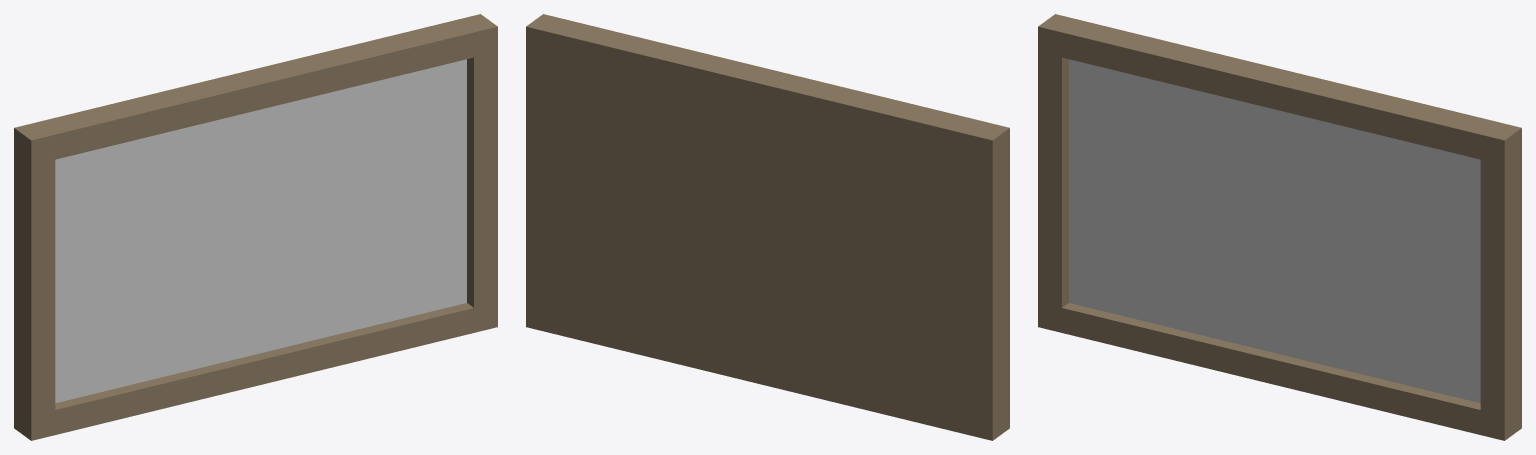
The model's file is frame3.fbx.
The picture shows the model from 3 angles, left to right: view 1: azimuth 30°, elevation 25°; view 2: azimuth 150°, elevation 25°; view 3: azimuth 330°, elevation 25°; orthographic projection.
Visible parts, largest first — view 1: frame3; view 2: frame3; view 3: frame3.
Boxes of the visible parts, x1,y1,x2,y2 form: frame3: (14, 14, 497, 440); frame3: (526, 14, 1009, 440); frame3: (1038, 14, 1521, 440).
Size of the model in its own units: 234 by 144 by 15.
